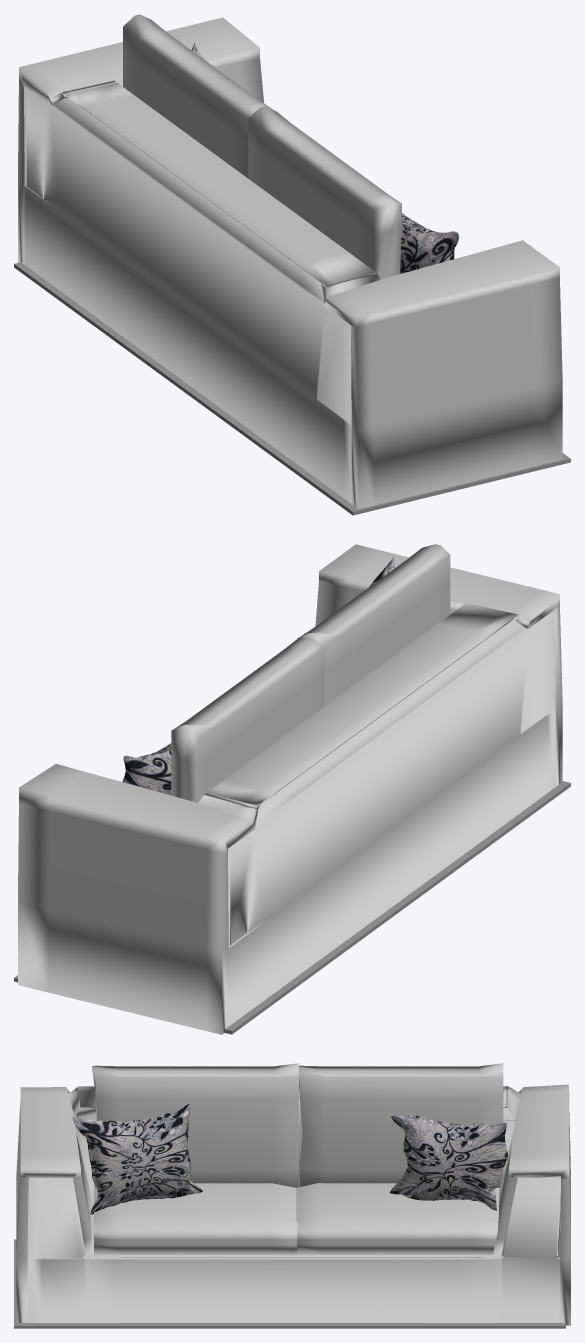
Rendered from sofa.fbx.
The picture shows the model from 3 angles, top to bottom: view 1: azimuth 30°, elevation 25°; view 2: azimuth 150°, elevation 25°; view 3: azimuth 270°, elevation 25°; orthographic projection. The views are drawn at different scales.
Visible parts, largest first — view 1: Cube.001, Cube, Cube.003, Cube.005, Cube.008, Cube.006; view 2: Cube.001, Cube, Cube.005, Cube.003, Cube.008, Cube.007; view 3: Cube, Cube.001, Cube.005, Cube.003, Cube.002, Cube.004, Cube.006, Cube.007, Cube.008.
Boxes of the visible parts, x1,y1,x2,y2 form: Cube.001: (18,17,562,509); Cube: (24,86,351,503); Cube.003: (248,106,401,279); Cube.005: (123,14,273,178); Cube.008: (14,262,570,515); Cube.006: (400,213,459,273); Cube.001: (18,544,562,1034); Cube: (228,609,555,1026); Cube.005: (171,637,324,802); Cube.003: (297,544,450,705); Cube.008: (14,781,570,1034); Cube.007: (122,743,171,795); Cube: (27,1176,560,1322); Cube.001: (16,1084,570,1325); Cube.005: (299,1063,503,1187); Cube.003: (92,1063,298,1187); Cube.002: (94,1183,297,1254); Cube.004: (295,1178,498,1254); Cube.006: (72,1104,202,1214); Cube.007: (390,1115,507,1210); Cube.008: (14,1239,565,1328).
Bounding box in the file's own units: 0.3041 × 0.3465 × 0.8266.
